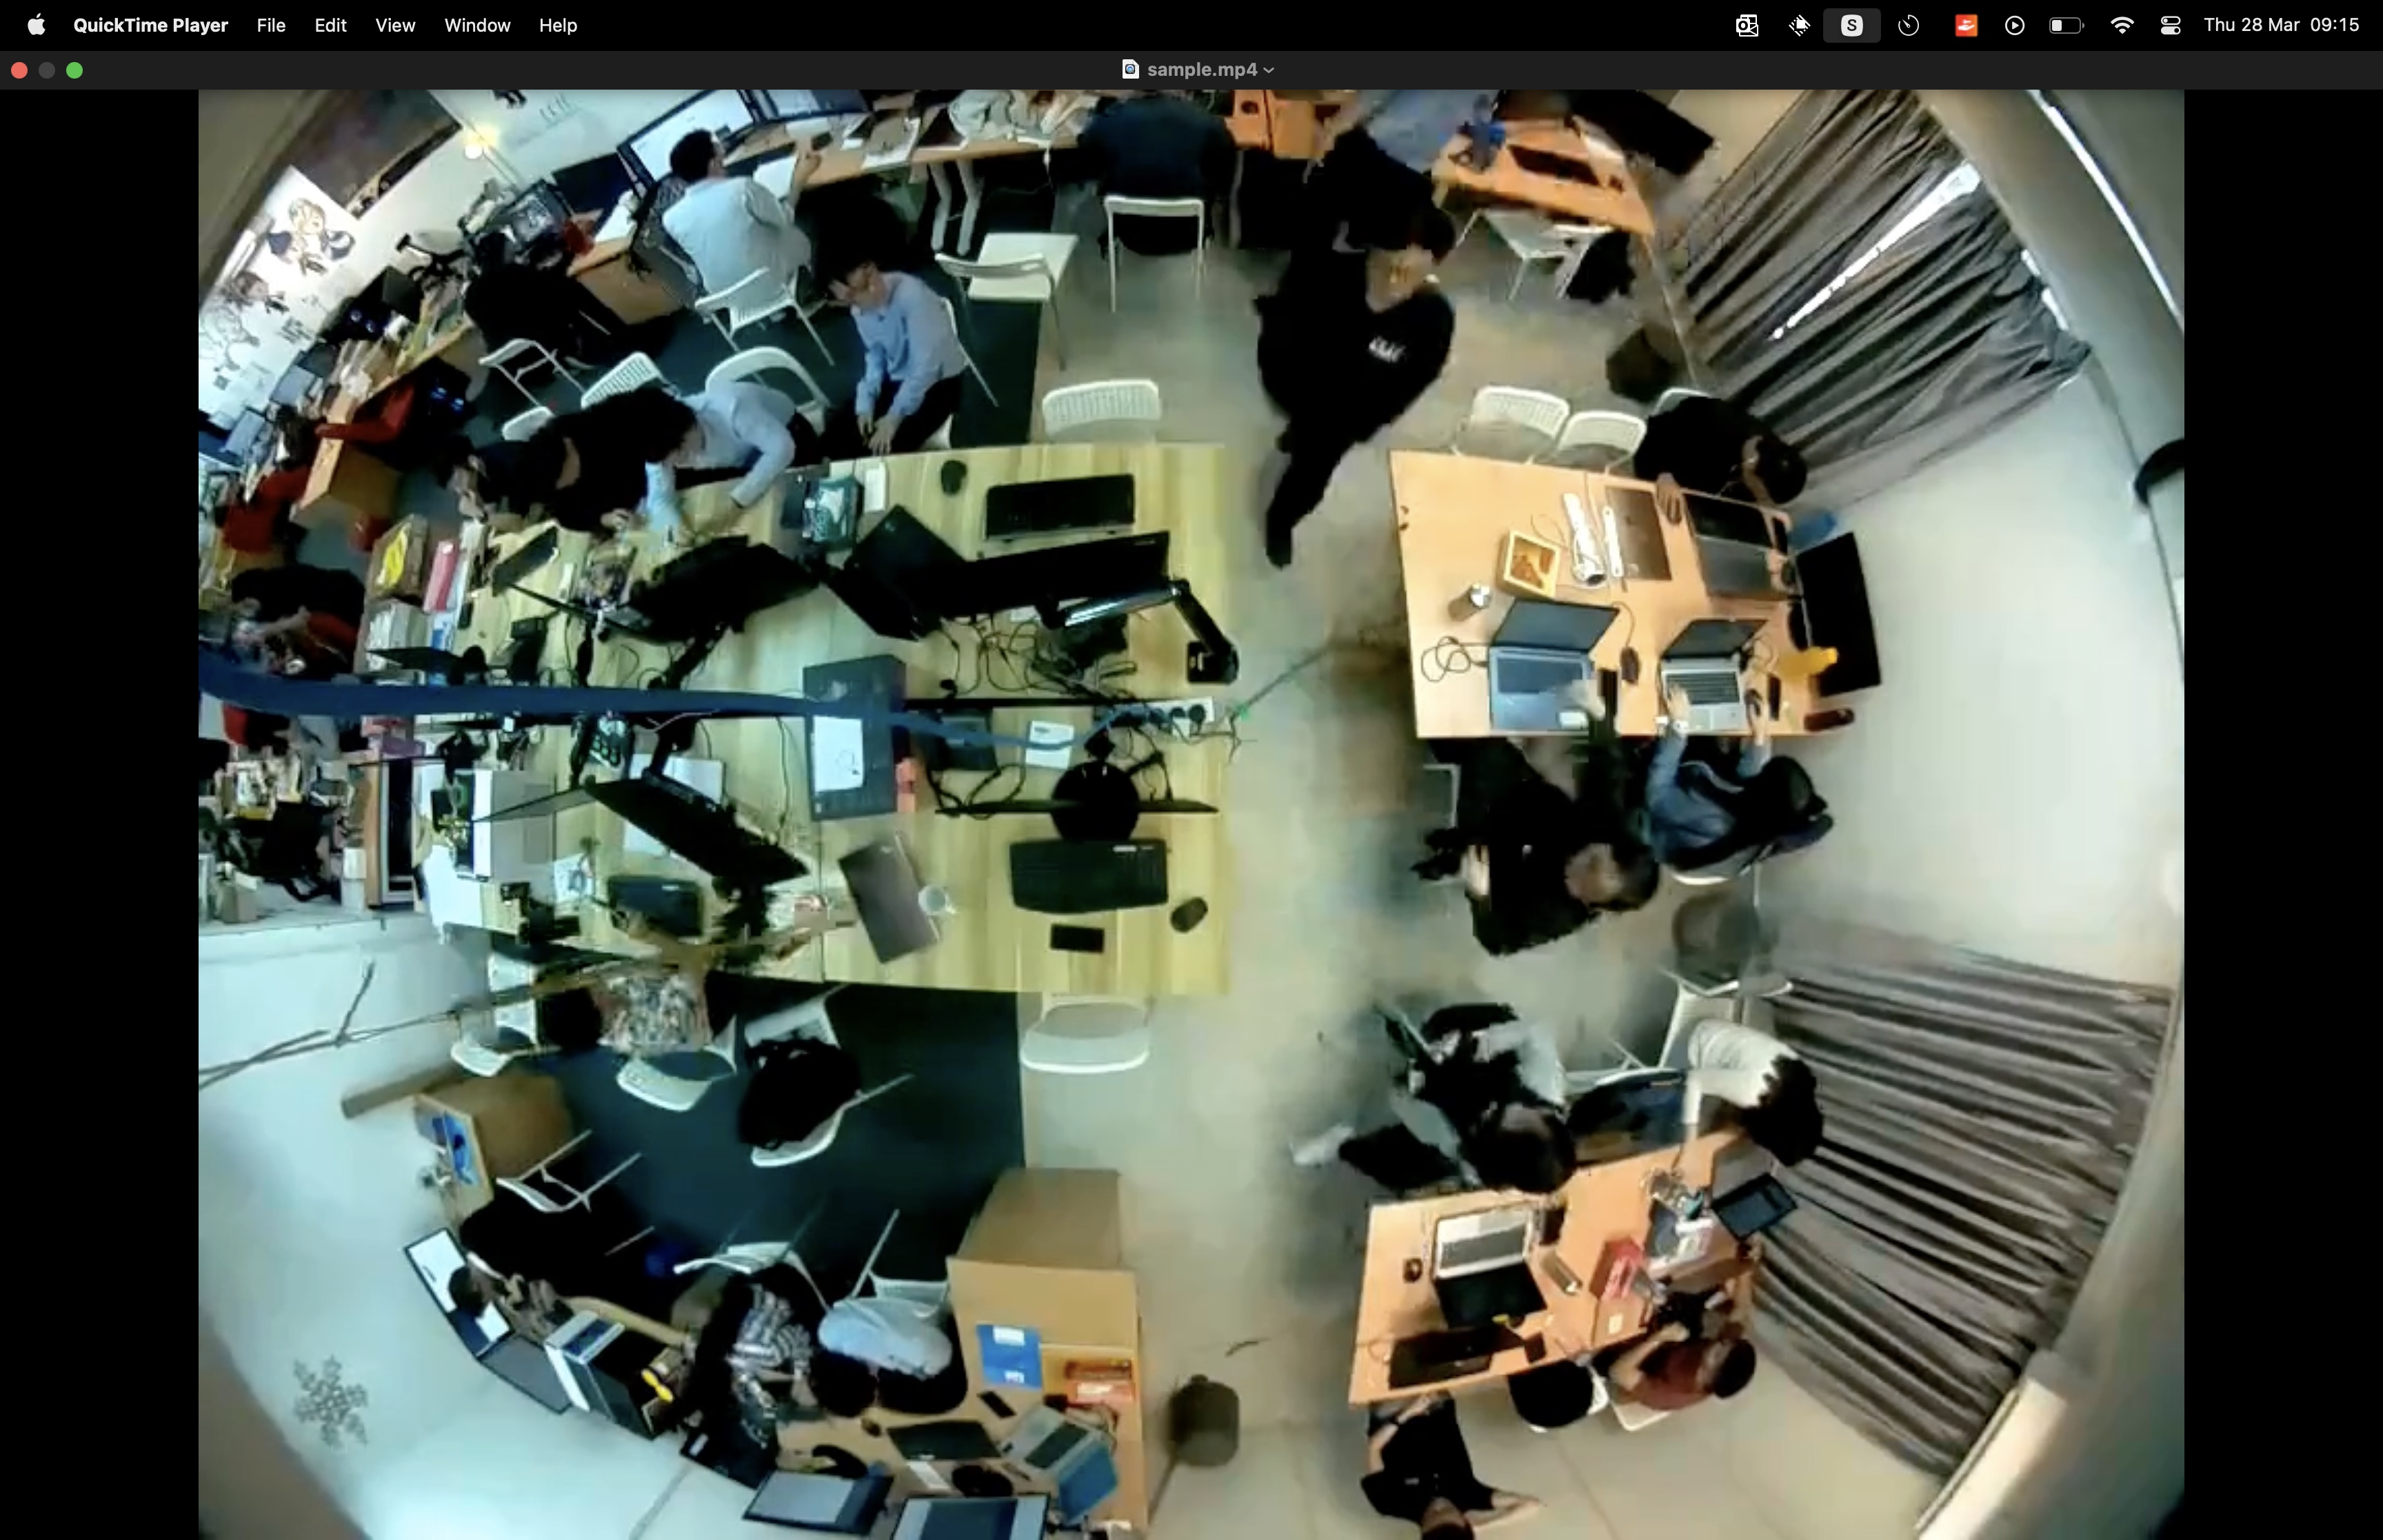Staff: (1264, 231, 1489, 573)
